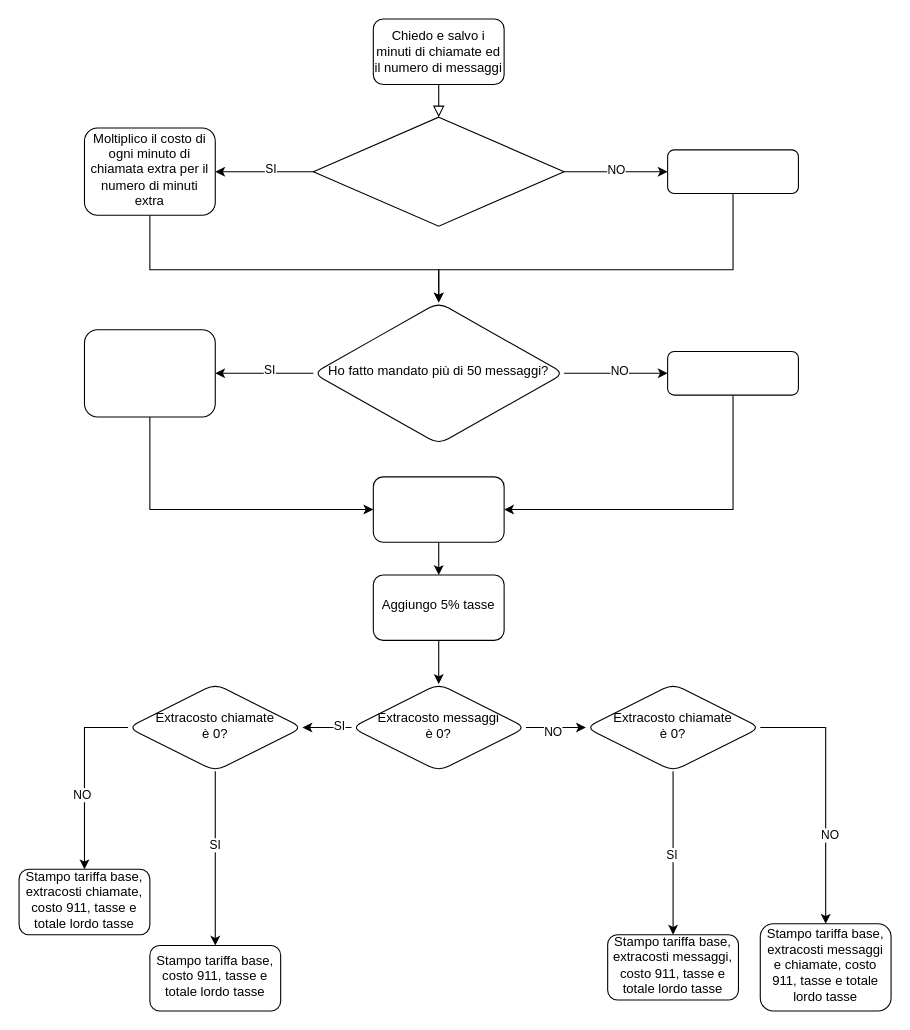
This 910x1030 diagram has some shape labels left out. The shapes that lost their labels are listed below. From the top down, each one's centre as x and y in pixels, then its label:
At (438,171): "Ho fatto più di 50 min di chiamate?".
At (732,171): "Non ho costi extra per le chiamate".
At (149,373): "Moltiplico il costo di ogni messaggio extra per il numero di messaggi extra".
At (732,372): "Non ho costi extra per i messaggi".
At (438,509): "Calcolo costo totale al netto tasse".
